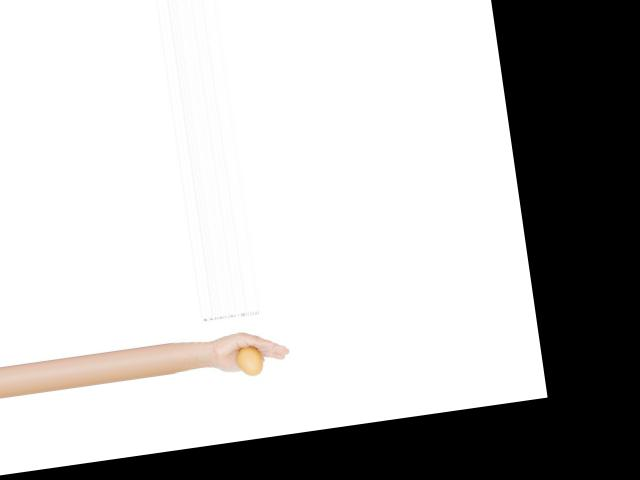egg: (235, 343, 265, 377)
